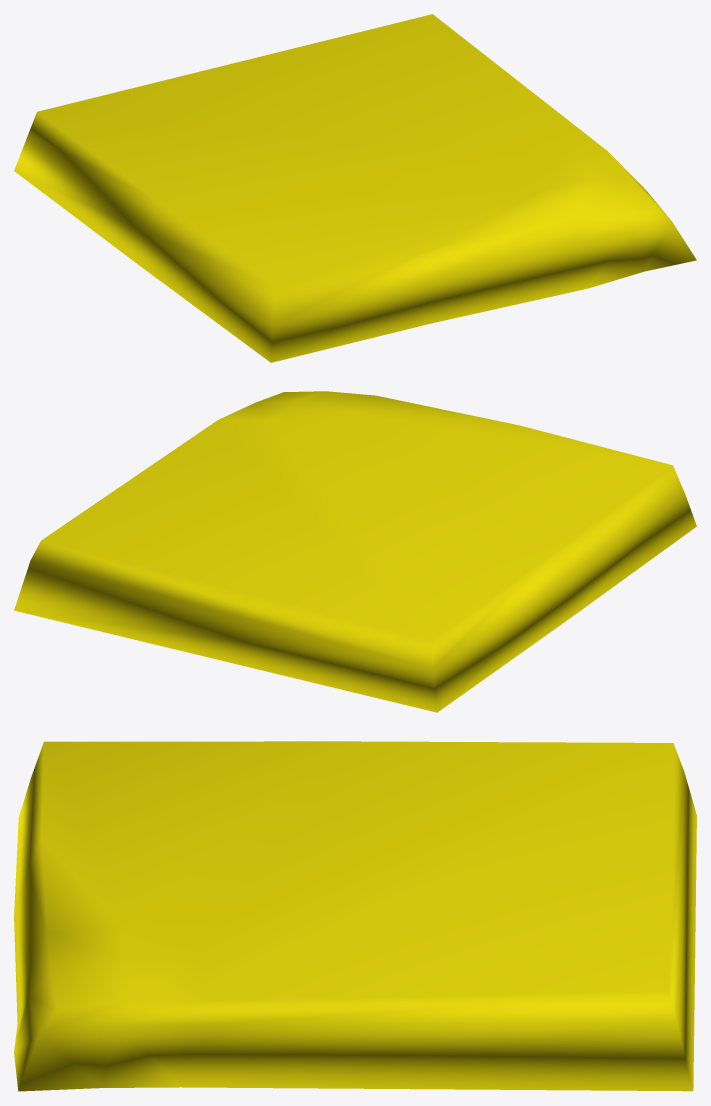
File: Pillar_Block_05_Lod0.fbx
3 renders of one model, top to bottom at view 1: azimuth 30°, elevation 25°; view 2: azimuth 150°, elevation 25°; view 3: azimuth 270°, elevation 25°, orthographic. The views are drawn at different scales.
Visible parts, largest first — view 1: Pillar_Block_05_Lod0; view 2: Pillar_Block_05_Lod0; view 3: Pillar_Block_05_Lod0.
Part boxes in pixels (left/top/right/bottom): Pillar_Block_05_Lod0: left=14, top=14, right=696, bottom=362; Pillar_Block_05_Lod0: left=14, top=391, right=696, bottom=712; Pillar_Block_05_Lod0: left=14, top=741, right=696, bottom=1091.
Size of the model in its own units: 496 by 77.89 by 521.
